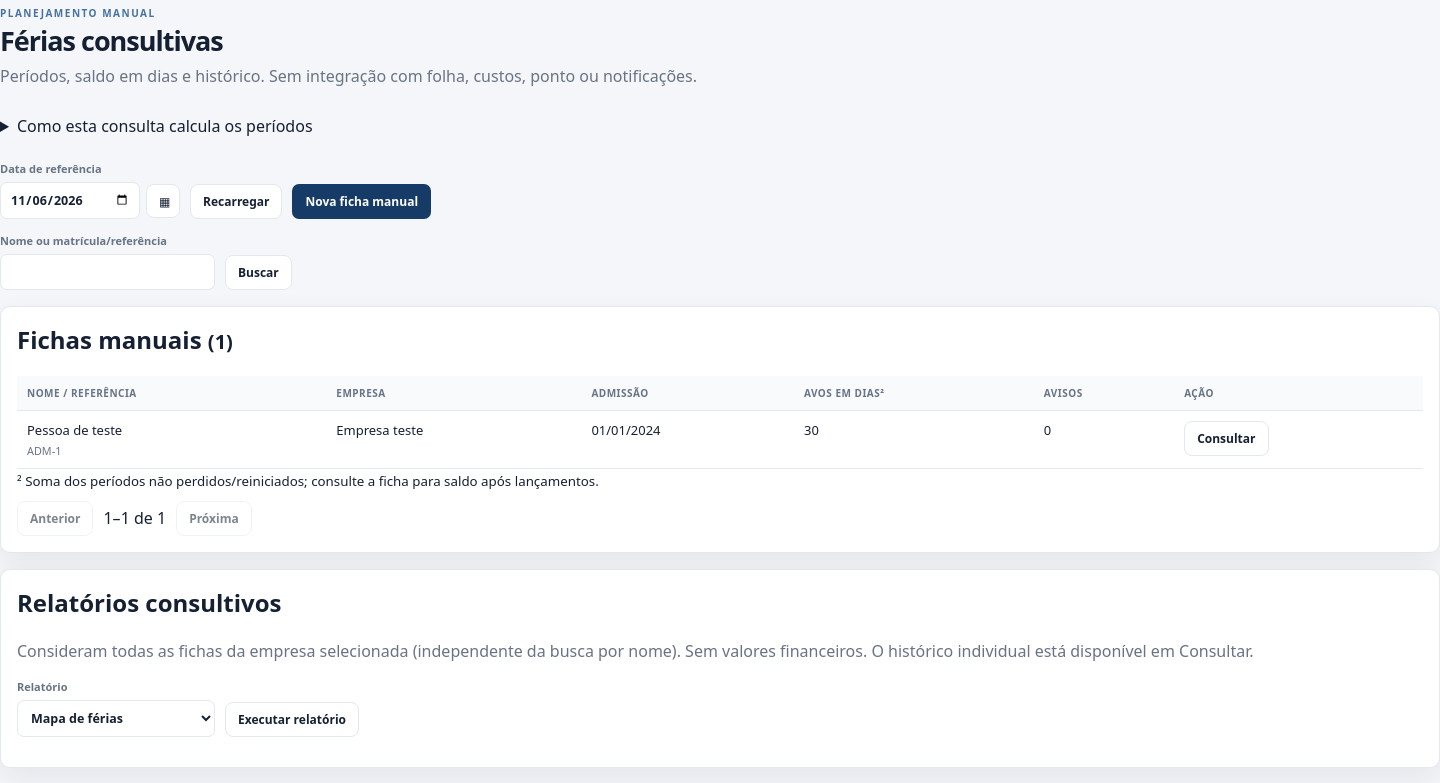
Test: Férias consultivas › simula avisos sem gravar e permite salvar mesmo com avos insuficientes
Step 1. Click the button "Consultar" → [1226, 438], box [1184,421,1268,456]
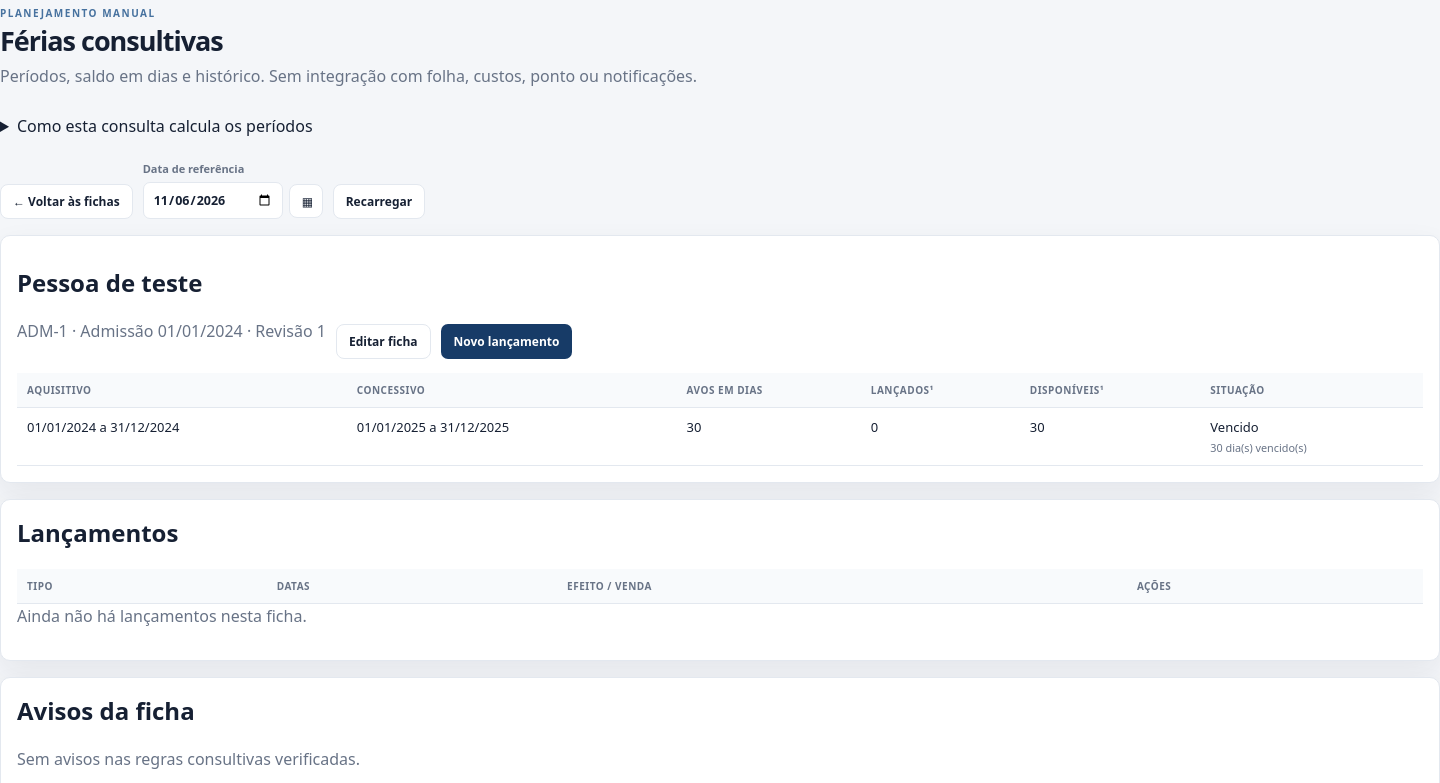
Step 2. Click the button "Novo lançamento" → [506, 341], box [440,324,572,359]
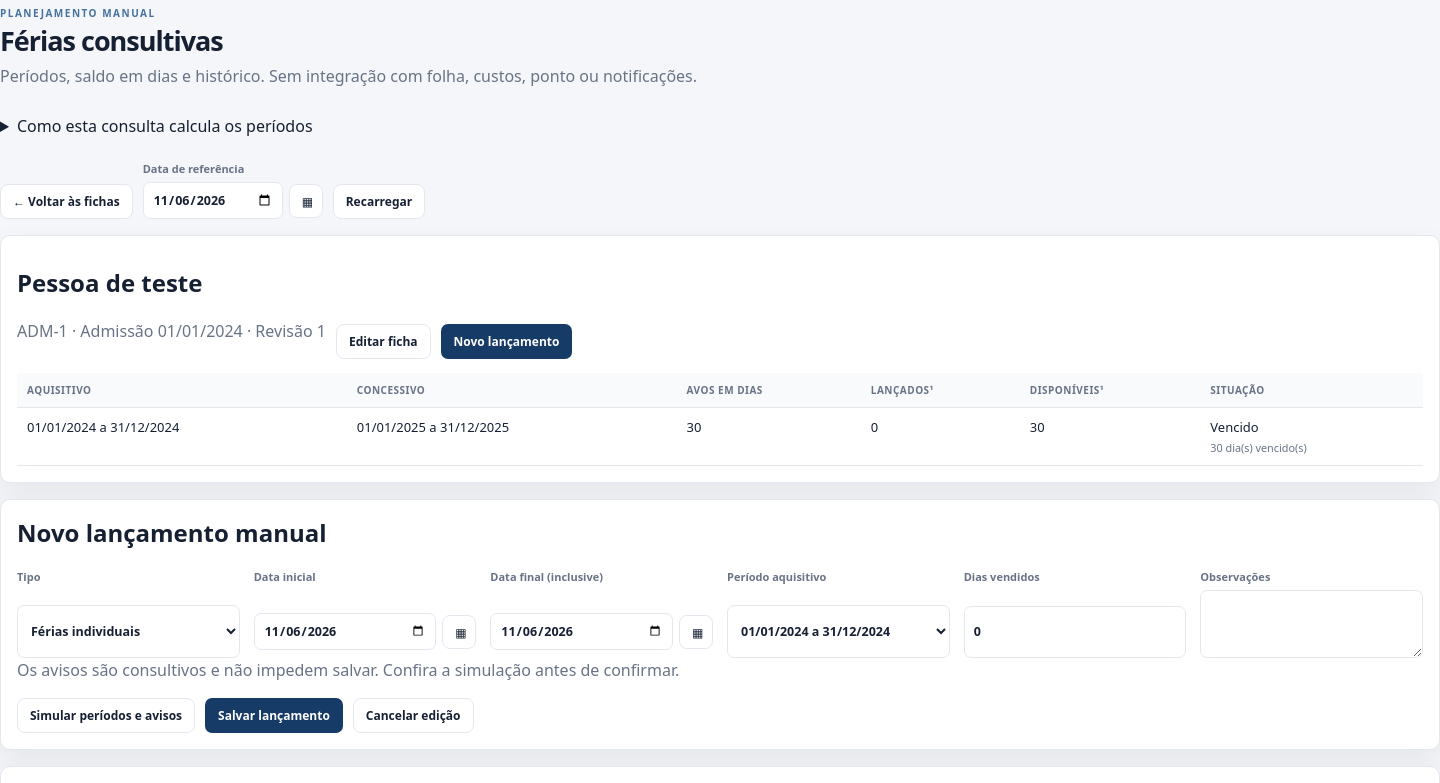
Step 3. Click the button "Simular períodos e avisos" → [106, 715], box [17,698,195,733]
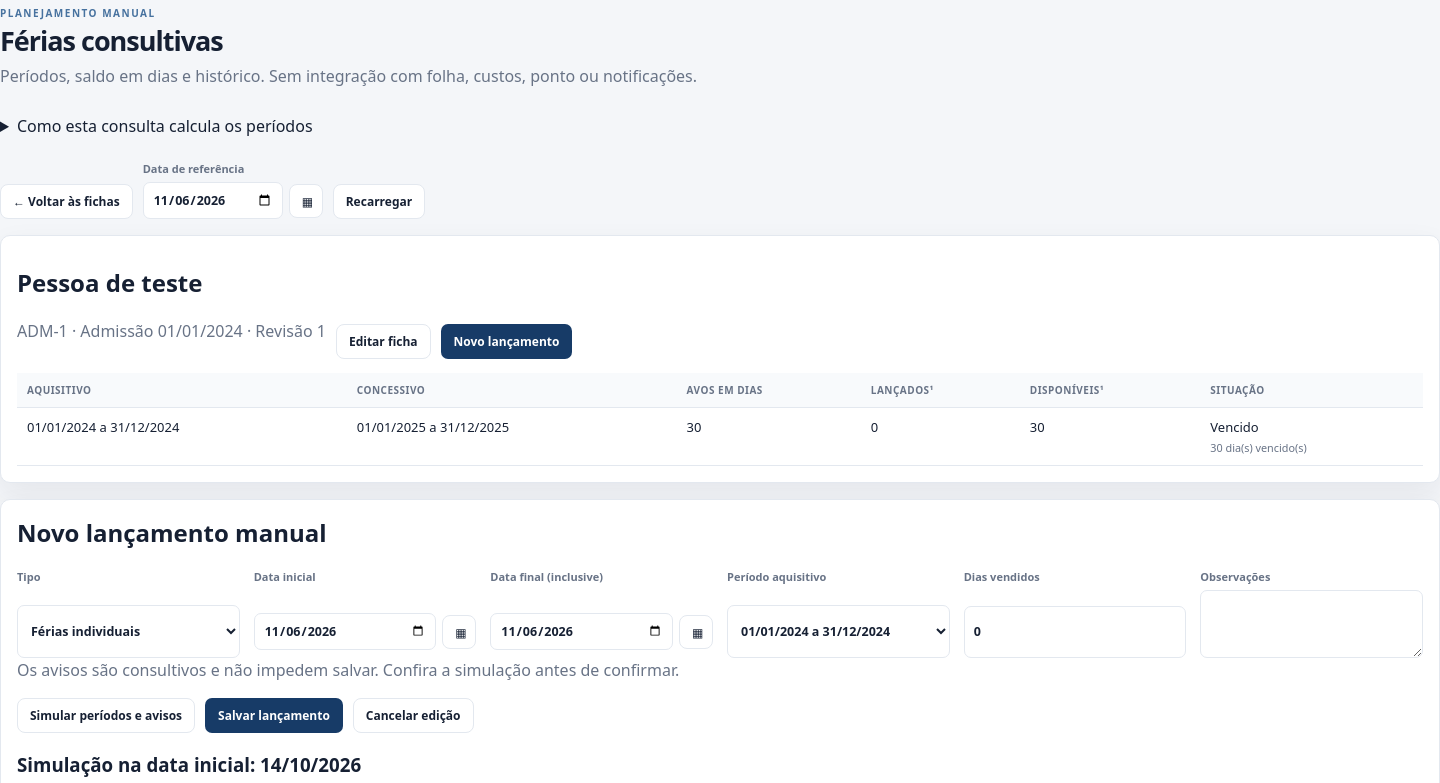
Step 4. Submit the form, box [17,569,1423,733]
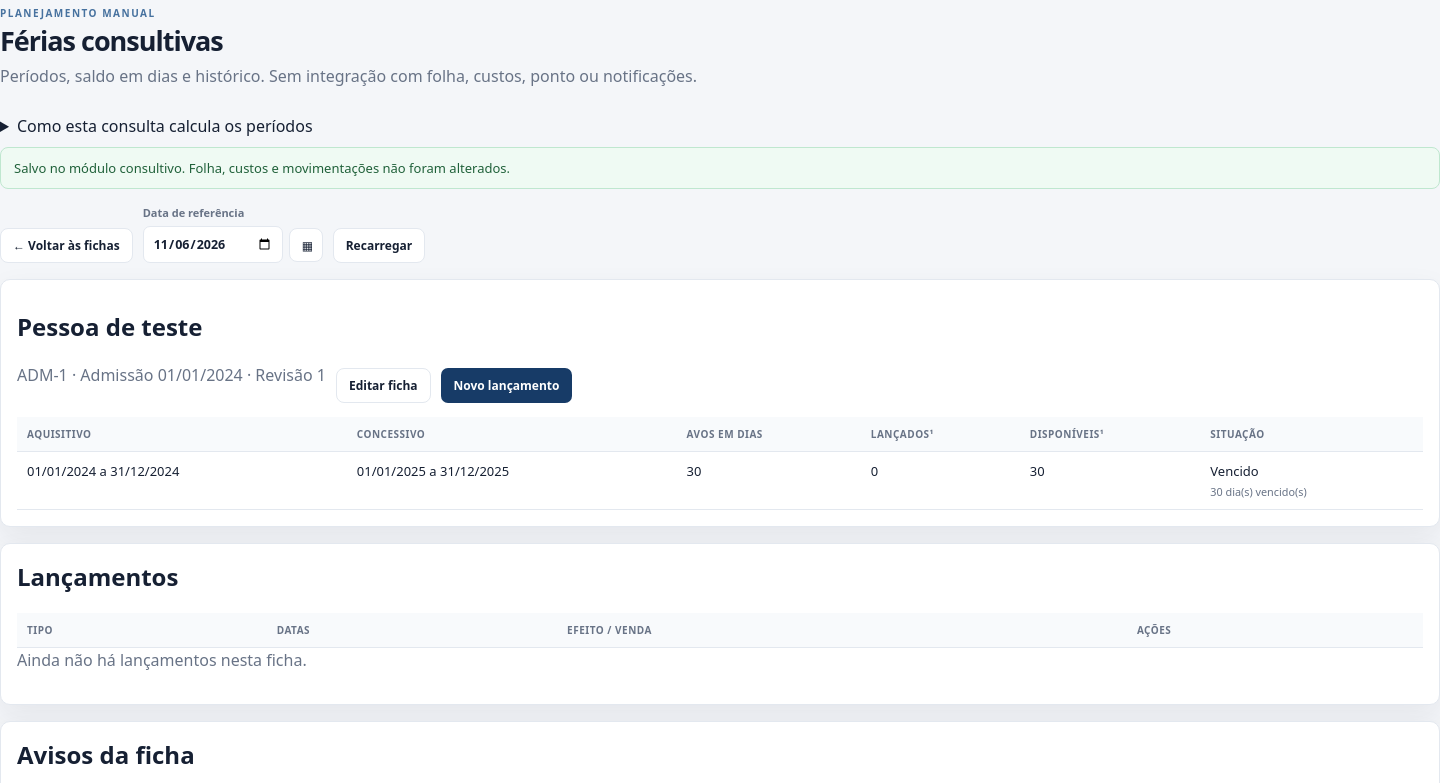
expect the text "Folha, custos e movimentações não foram alterados" is shown: met, box [14,159,510,177]
